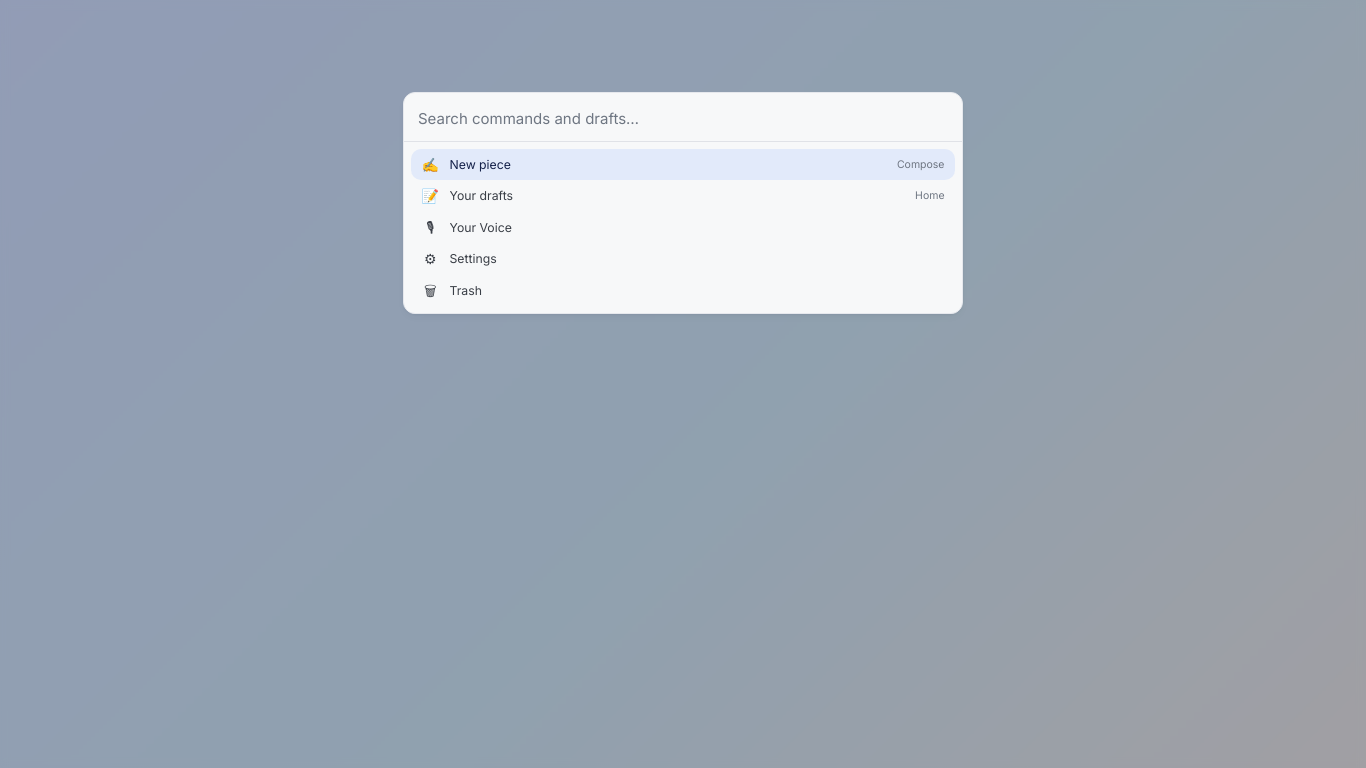
Test case: CommandPalette › filters results by query
Type "voice" into the field labelled "Search commands and drafts…" at (683, 119), box [418,107,948,130]
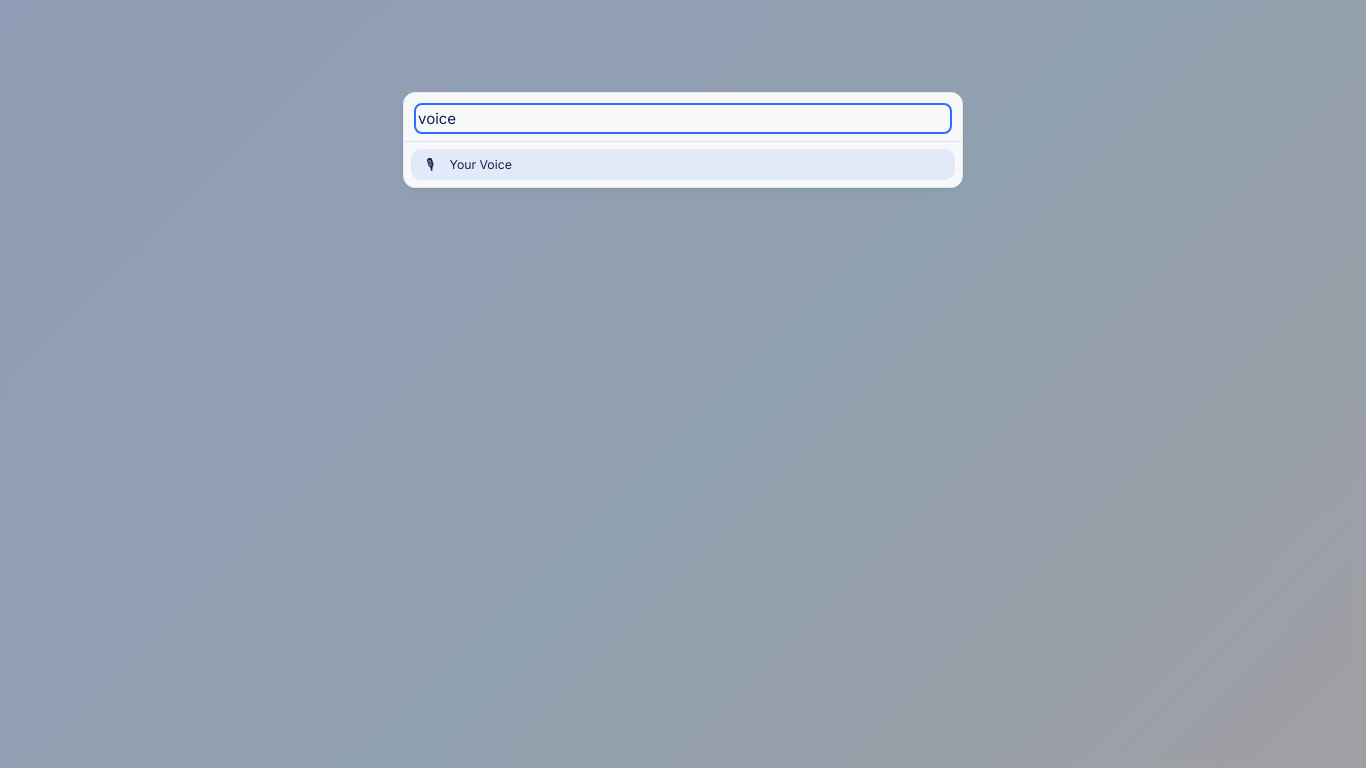
Check: the text "Your Voice" is shown, box [450,157,512,172]
Check: the button "New piece" is gone
